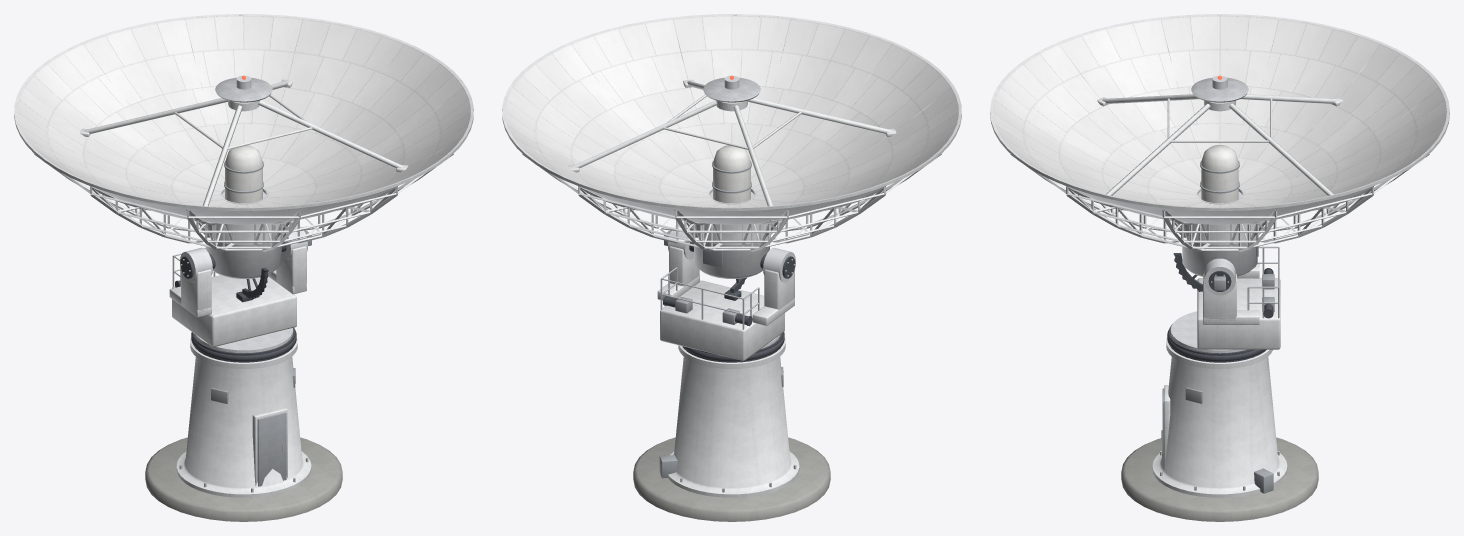
The model's file is vlbisim_assets.glb.
3 renders of one model, left to right at view 1: azimuth 30°, elevation 25°; view 2: azimuth 150°, elevation 25°; view 3: azimuth 270°, elevation 25°, orthographic.
Parts seen in each view (by area): view 1: Ant12_EL_Ant_Reflector, Ant12_EL_Ant_Paint, Ant12_Ant_Paint, Ant12_AZ_Ant_Paint, Ant12_Ant_Concrete, Ant12_EL_Ant_Paint2, Ant12_AZ_Ant_Paint2, Ant12_EL_Feed_Cone, Ant12_Paint_Grey, Ant12_Dark_Metal, Ant12_EL_Steel; view 2: Ant12_EL_Ant_Reflector, Ant12_Ant_Paint, Ant12_EL_Ant_Paint, Ant12_AZ_Ant_Paint, Ant12_Ant_Concrete, Ant12_EL_Ant_Paint2, Ant12_EL_Feed_Cone, Ant12_EL_Steel, Ant12_AZ_Ant_Paint2, Ant12_AZ_Steel, Ant12_Dark_Metal, Ant12_AZ_Dark_Metal (+1 smaller); view 3: Ant12_EL_Ant_Reflector, Ant12_Ant_Paint, Ant12_EL_Ant_Paint, Ant12_Ant_Concrete, Ant12_AZ_Ant_Paint, Ant12_EL_Ant_Paint2, Ant12_EL_Feed_Cone, Ant12_AZ_Ant_Paint2, Ant12_EL_Steel, Ant12_Dark_Metal, Ant12_Paint_Grey, Ant12_AZ_Steel.
Boxes of the visible parts, <box> form: Ant12_EL_Ant_Reflector: <box>17,15,470,207</box>; Ant12_EL_Ant_Paint: <box>14,14,473,251</box>; Ant12_Ant_Paint: <box>176,337,311,497</box>; Ant12_AZ_Ant_Paint: <box>169,246,306,346</box>; Ant12_Ant_Concrete: <box>145,437,342,521</box>; Ant12_EL_Ant_Paint2: <box>89,75,392,278</box>; Ant12_AZ_Ant_Paint2: <box>180,224,307,353</box>; Ant12_EL_Feed_Cone: <box>225,145,262,203</box>; Ant12_Paint_Grey: <box>257,412,286,486</box>; Ant12_Dark_Metal: <box>191,327,296,362</box>; Ant12_EL_Steel: <box>215,77,272,102</box>; Ant12_EL_Ant_Reflector: <box>505,15,958,207</box>; Ant12_Ant_Paint: <box>668,337,799,497</box>; Ant12_EL_Ant_Paint: <box>502,14,961,251</box>; Ant12_AZ_Ant_Paint: <box>657,246,794,360</box>; Ant12_Ant_Concrete: <box>633,437,830,521</box>; Ant12_EL_Ant_Paint2: <box>583,75,886,278</box>; Ant12_EL_Feed_Cone: <box>713,145,750,203</box>; Ant12_EL_Steel: <box>703,77,760,102</box>; Ant12_AZ_Ant_Paint2: <box>668,224,795,348</box>; Ant12_AZ_Steel: <box>660,259,795,329</box>; Ant12_Dark_Metal: <box>682,332,784,362</box>; Ant12_AZ_Dark_Metal: <box>663,256,795,326</box>; Ant12_EL_Ant_Reflector: <box>993,15,1446,207</box>; Ant12_Ant_Paint: <box>1152,337,1287,497</box>; Ant12_EL_Ant_Paint: <box>990,14,1449,251</box>; Ant12_Ant_Concrete: <box>1121,437,1318,521</box>; Ant12_AZ_Ant_Paint: <box>1197,263,1280,349</box>; Ant12_EL_Ant_Paint2: <box>1065,75,1374,276</box>; Ant12_EL_Feed_Cone: <box>1201,145,1238,203</box>; Ant12_AZ_Ant_Paint2: <box>1170,258,1246,353</box>; Ant12_EL_Steel: <box>1191,77,1248,102</box>; Ant12_Dark_Metal: <box>1167,324,1266,362</box>; Ant12_Paint_Grey: <box>1162,388,1273,493</box>; Ant12_AZ_Steel: <box>1211,246,1279,318</box>.
Size of the model in its own units: 12.14 by 12.79 by 12.14.
Materials: 23 (22 with a texture image).
